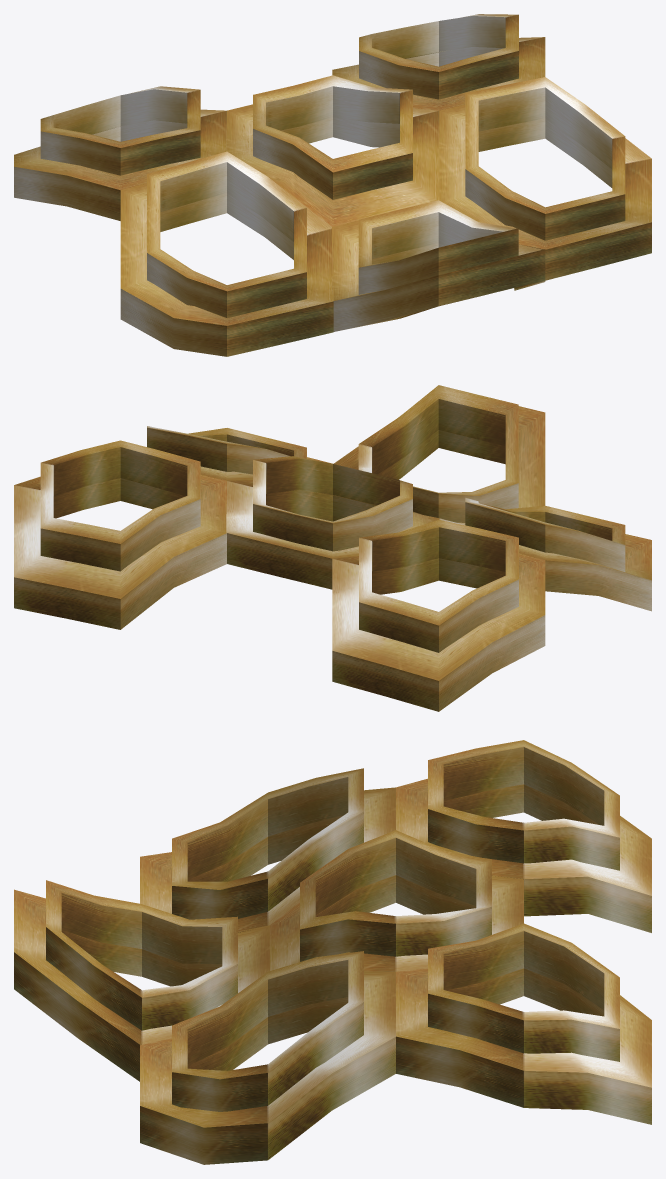
File: static.fbx
The picture shows the model from 3 angles, top to bottom: view 1: azimuth 30°, elevation 25°; view 2: azimuth 150°, elevation 25°; view 3: azimuth 270°, elevation 25°; orthographic projection. The views are drawn at different scales.
Visible parts, largest first — view 1: Sweep_4, Sweep_3, Sweep_9, Sweep_7, Sweep_10, Sweep_8, Sweep_5, Sweep_11, Sweep, Sweep_2, Sweep_6, Sweep_12; view 2: Sweep_6, Sweep_12, Sweep_11, Sweep_5, Sweep, Sweep_7, Sweep_8, Sweep_3, Sweep_2, Sweep_4, Sweep_9, Sweep_10; view 3: Sweep_12, Sweep_10, Sweep_9, Sweep_11, Sweep_5, Sweep, Sweep_7, Sweep_3, Sweep_6, Sweep_2, Sweep_8, Sweep_4.
Part boxes in pixels (left/top/right/bottom): Sweep_4: left=120, top=183, right=333, bottom=356; Sweep_3: left=147, top=151, right=306, bottom=317; Sweep_9: left=465, top=77, right=625, bottom=240; Sweep_7: left=253, top=75, right=412, bottom=199; Sweep_10: left=439, top=104, right=651, bottom=280; Sweep_8: left=226, top=104, right=439, bottom=226; Sweep_5: left=40, top=86, right=200, bottom=175; Sweep_11: left=359, top=14, right=518, bottom=99; Sweep: left=358, top=200, right=518, bottom=294; Sweep_2: left=332, top=220, right=545, bottom=331; Sweep_6: left=14, top=109, right=226, bottom=220; Sweep_12: left=332, top=37, right=545, bottom=110; Sweep_6: left=332, top=553, right=545, bottom=711; Sweep_12: left=14, top=475, right=226, bottom=629; Sweep_11: left=40, top=440, right=200, bottom=571; Sweep_5: left=359, top=520, right=518, bottom=652; Sweep: left=358, top=385, right=518, bottom=522; Sweep_7: left=253, top=456, right=412, bottom=551; Sweep_8: left=226, top=480, right=439, bottom=589; Sweep_3: left=465, top=497, right=625, bottom=571; Sweep_2: left=334, top=406, right=545, bottom=524; Sweep_4: left=439, top=518, right=651, bottom=611; Sweep_9: left=147, top=426, right=306, bottom=474; Sweep_10: left=200, top=457, right=333, bottom=480; Sweep_12: left=396, top=968, right=651, bottom=1124; Sweep_10: left=140, top=971, right=395, bottom=1164; Sweep_9: left=172, top=951, right=363, bottom=1111; Sweep_11: left=428, top=923, right=619, bottom=1061; Sweep_5: left=428, top=740, right=619, bottom=870; Sweep: left=46, top=880, right=237, bottom=1030; Sweep_7: left=300, top=830, right=491, bottom=961; Sweep_3: left=172, top=768, right=363, bottom=919; Sweep_6: left=396, top=778, right=651, bottom=932; Sweep_2: left=14, top=889, right=269, bottom=1081; Sweep_8: left=270, top=875, right=523, bottom=972; Sweep_4: left=140, top=787, right=395, bottom=932.
Size of the model in its own units: 93.34 by 20.83 by 80.77.
Materials: 1 (1 with a texture image).
